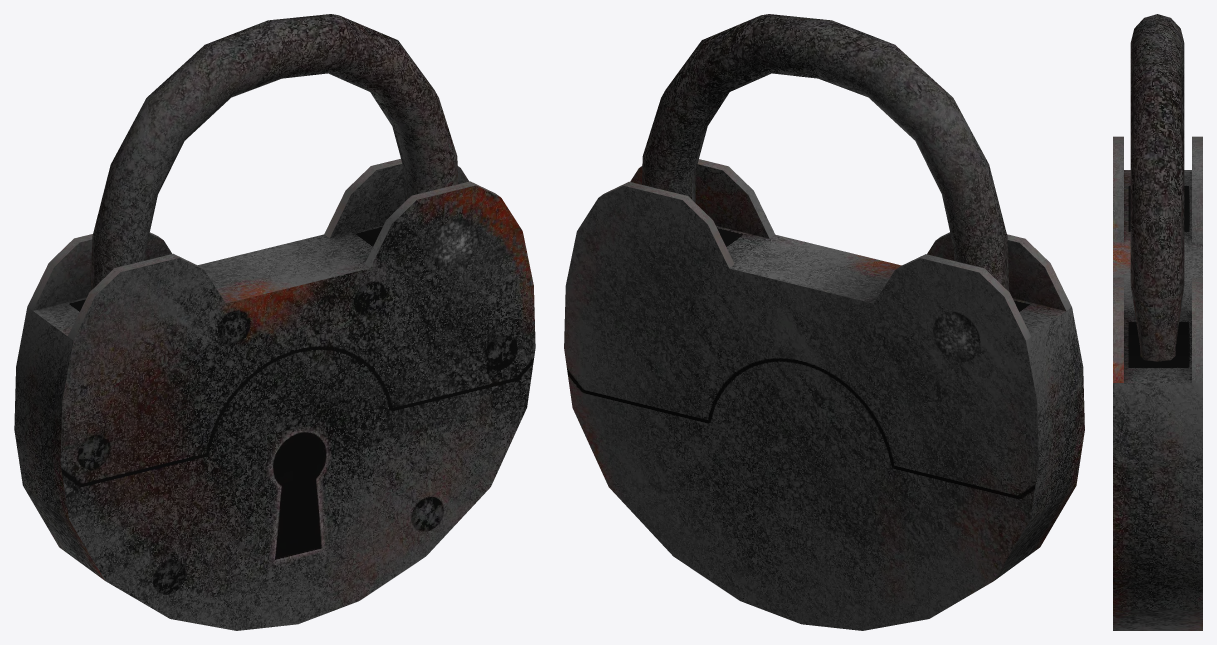
3 renders of one model, left to right at view 1: azimuth 30°, elevation 25°; view 2: azimuth 150°, elevation 25°; view 3: azimuth 270°, elevation 25°, orthographic. The views are drawn at different scales.
Visible parts, largest first — view 1: Object_2; view 2: Object_2; view 3: Object_2.
Boxes of the visible parts, x1,y1,x2,y2 form: Object_2: (14,14,535,630); Object_2: (564,14,1084,630); Object_2: (1113,14,1202,630).
Size of the model in its own units: 0.1624 by 0.1914 by 0.0274.
1 material, 1 textured.
